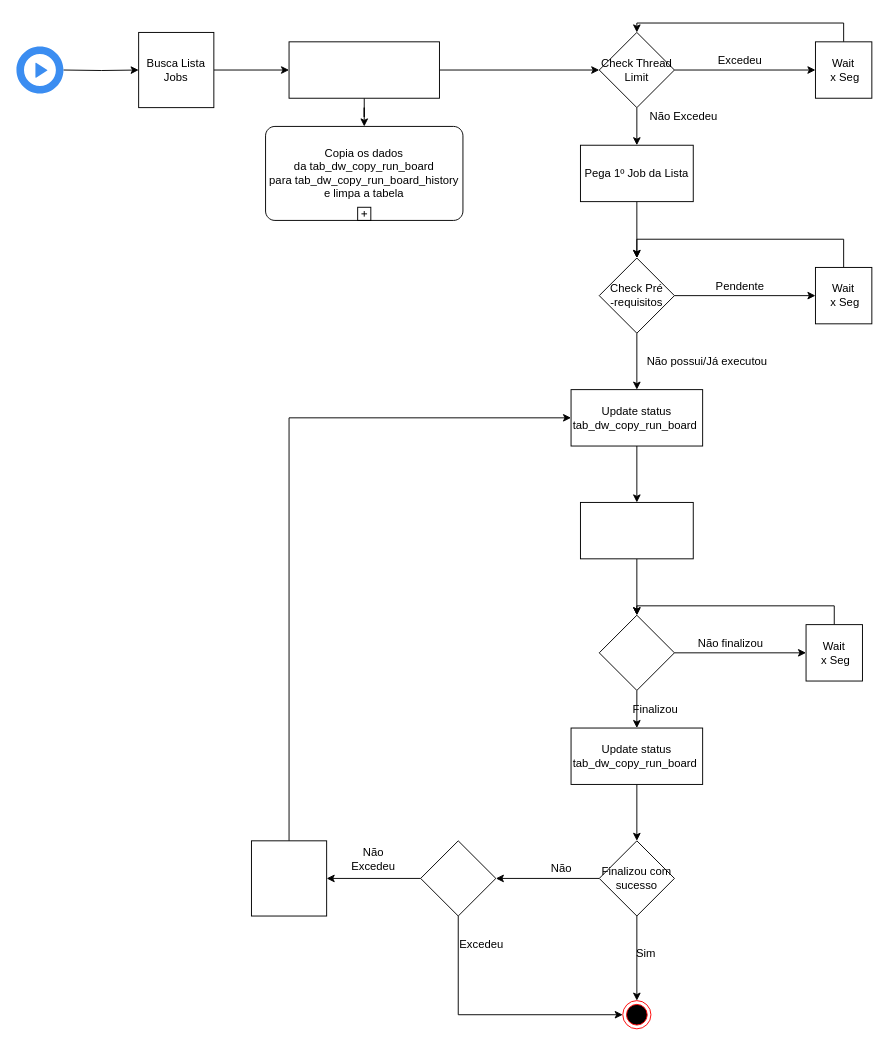
The diagram is 888 pixels wide and 1045 high, and some of its shapes have lost their labels. The shapes that lost their labels are listed below. From the top down, each one's centre as x and y in pixels, then its label:
At point 363,69: "Inseri lista de jobs na tab_dw_copy_run_board".
At point 636,530: "Instancia Execução".
At point 636,652: "Check Execução".
At point 289,878: "Incrementa Execution Counter".
At point 458,878: "Check Execution Limit".
